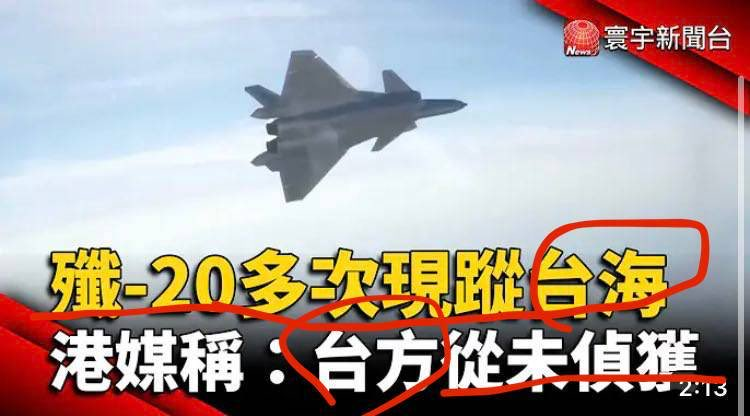J20: (244, 49, 468, 203)
